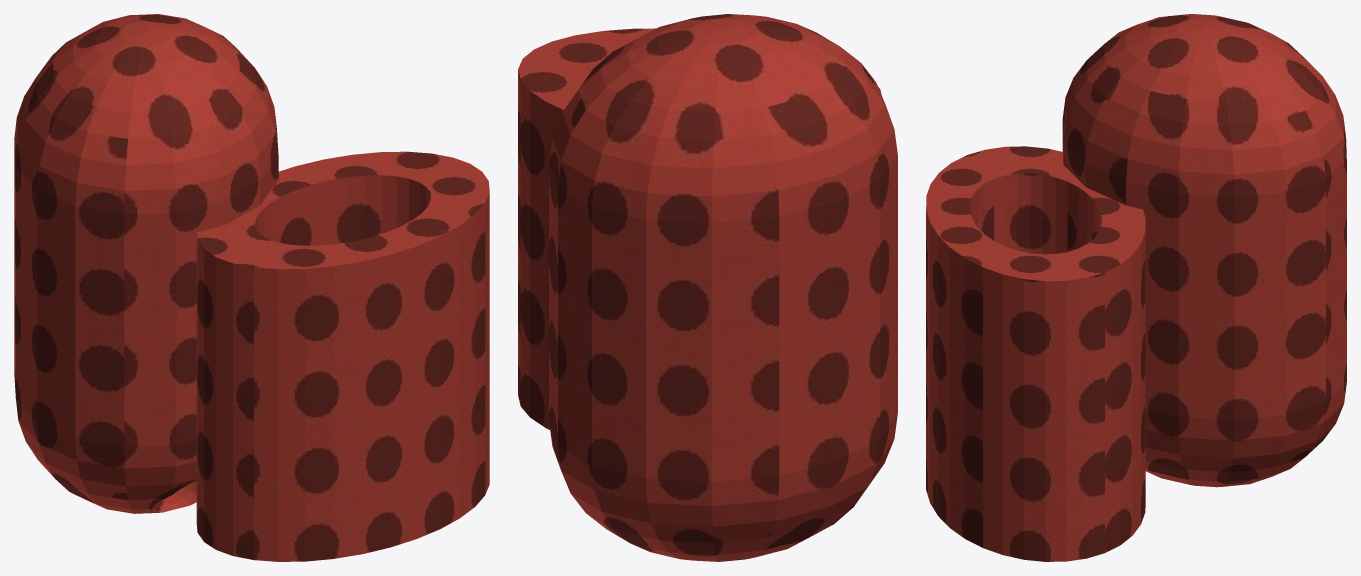
3 renders of one model, left to right at view 1: azimuth 30°, elevation 25°; view 2: azimuth 150°, elevation 25°; view 3: azimuth 270°, elevation 25°, orthographic. The views are drawn at different scales.
Parts seen in each view (by area): view 1: geometry_0; view 2: geometry_0; view 3: geometry_0.
Part boxes in pixels (x1=…): geometry_0: x1=14, y1=14, x2=489, y2=561; geometry_0: x1=518, y1=14, x2=897, y2=561; geometry_0: x1=926, y1=14, x2=1346, y2=561.
Size of the model in its own units: 1.1 by 1.29 by 1.11.
1 material, 1 textured.
